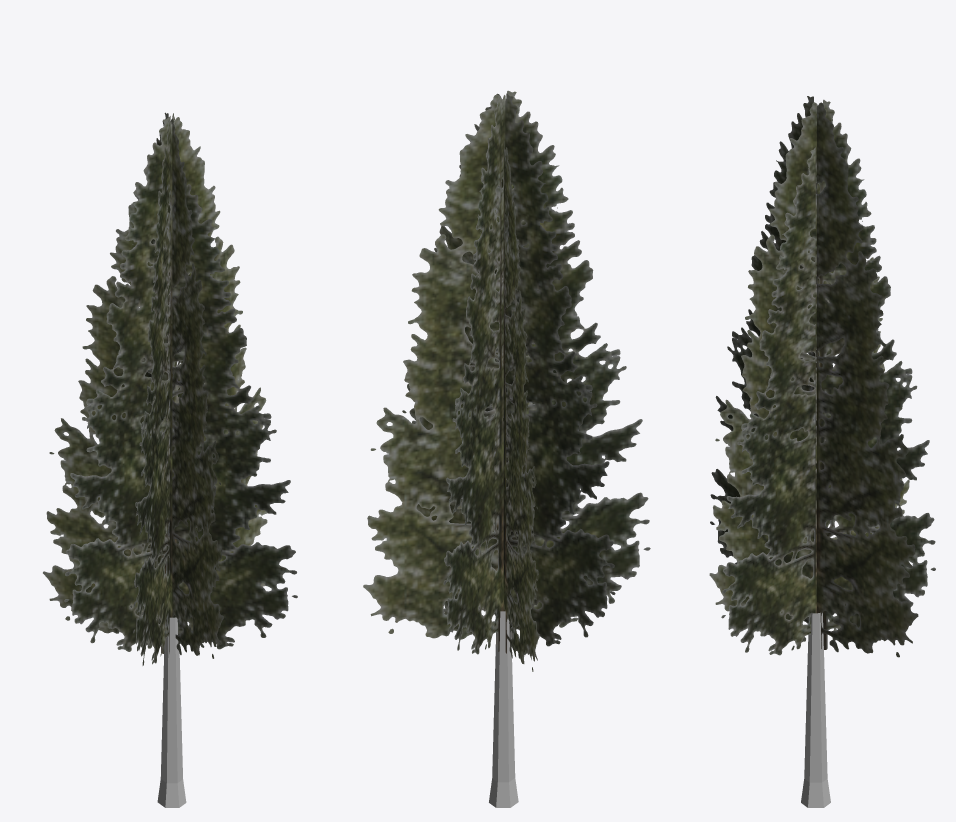
The model's file is Arbol02.fbx.
3 views of the same model, side by side, from view 1: azimuth 30°, elevation 25°; view 2: azimuth 150°, elevation 25°; view 3: azimuth 270°, elevation 25° (orthographic). The views are drawn at different scales.
Parts seen in each view (by area): view 1: arbol01; view 2: arbol01; view 3: arbol01, base-arboles pequs.
Boxes of the visible parts, x1,y1,x2,y2 form: arbol01: (43, 112, 297, 807); arbol01: (363, 90, 650, 807); arbol01: (709, 96, 935, 807); base-arboles pequs: (801, 779, 830, 807).
Size of the model in its own units: 407 by 1167 by 371.
